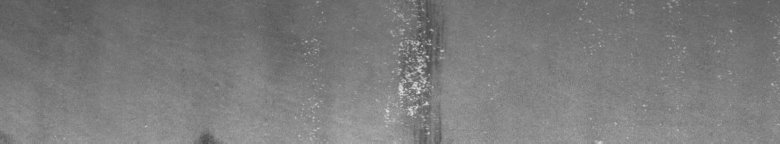hc: (384, 4, 496, 136)
